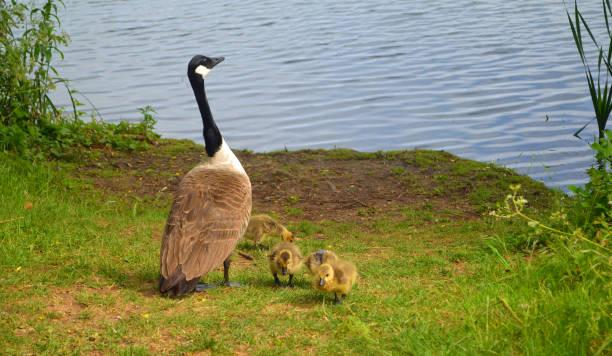Canadian-Goose: (156, 54, 257, 290), (243, 208, 297, 248), (314, 261, 359, 301), (268, 243, 299, 285), (307, 249, 336, 273)
